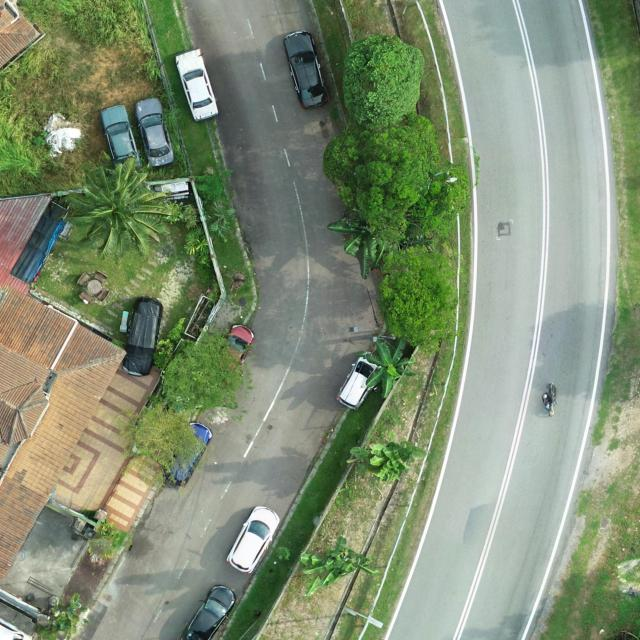Tree: (322, 112, 471, 244), (66, 149, 173, 260), (377, 246, 460, 354), (113, 400, 209, 490), (326, 206, 434, 281), (342, 34, 425, 129), (160, 331, 244, 412), (300, 537, 381, 597), (357, 335, 418, 397), (346, 439, 428, 482)
